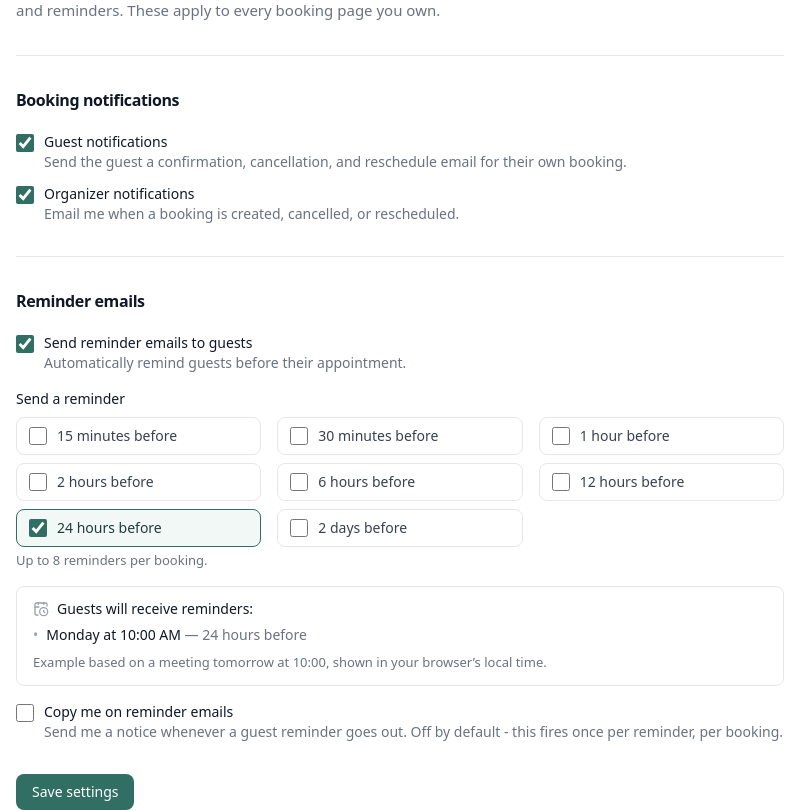
Scenario: NotificationSettingsPage › confirms a successful save, mentioning that existing bookings were updated
The width and height of the screenshot is (801, 810).
(page scrolled)
Click the button "Save settings": (75, 792) top-left (16, 774), bottom-right (134, 809)
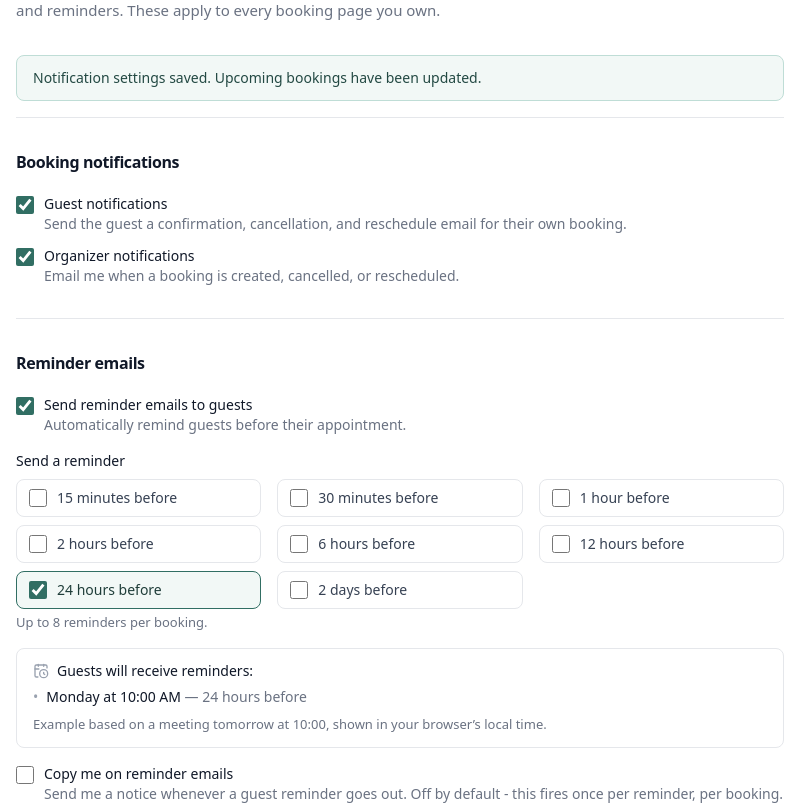
Expected: the text "Notification settings saved. Upcoming bookings have been updated." is shown, top-left (16, 55), bottom-right (784, 101)
